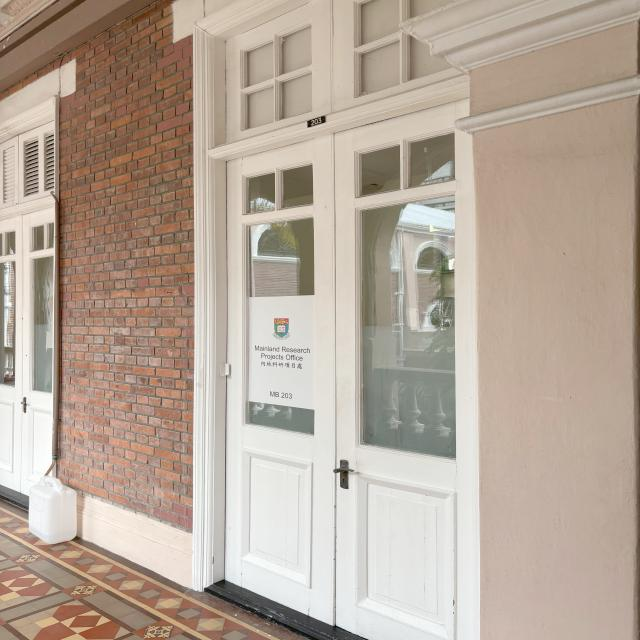MB203_bannerNumber: (268, 387, 294, 404)
MB203_roomNum: (304, 113, 328, 132)
